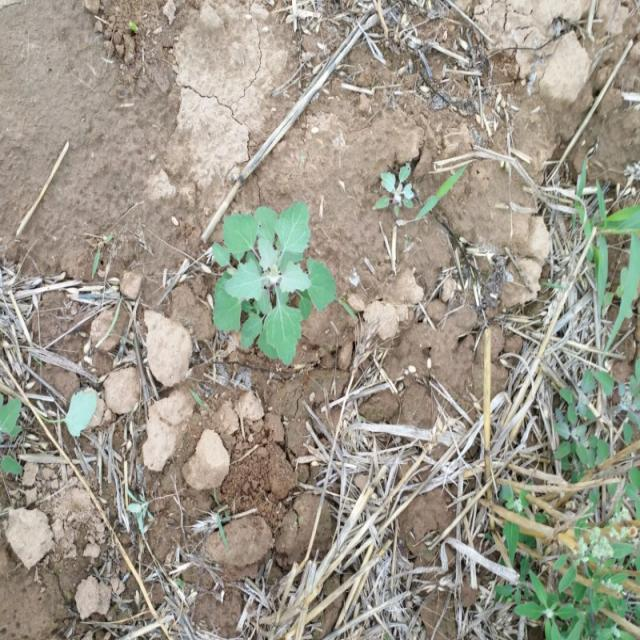goosefoots: (198, 191, 358, 374)
